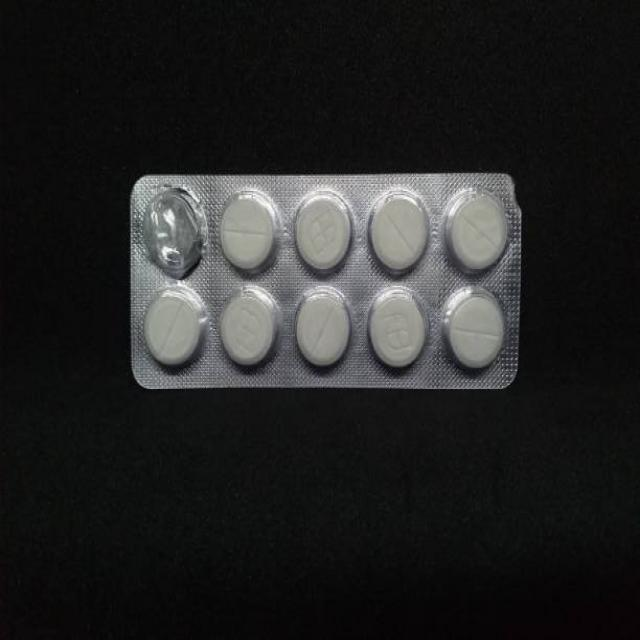Empty: (137, 185, 204, 276)
Pill: (210, 181, 286, 274), (441, 180, 512, 278), (438, 281, 508, 379), (285, 181, 356, 275), (138, 279, 206, 373), (216, 280, 281, 378), (363, 188, 435, 275), (366, 281, 428, 379), (292, 283, 357, 375)
